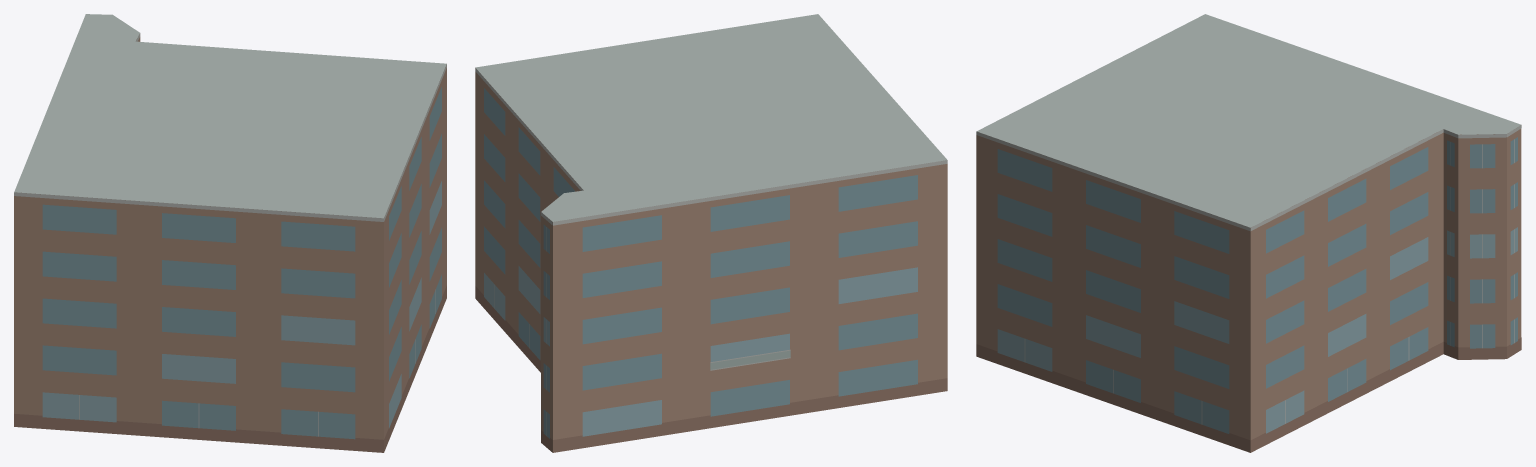
File: survey-upis-33044342.glb
3 views of the same model, side by side, from view 1: azimuth 30°, elevation 25°; view 2: azimuth 150°, elevation 25°; view 3: azimuth 270°, elevation 25° (orthographic). The views are drawn at different scales.
Parts seen in each view (by area): view 1: survey-upis-33044342.tmp; view 2: survey-upis-33044342.tmp; view 3: survey-upis-33044342.tmp.
Part boxes in pixels (x1,y1,x2,y2): survey-upis-33044342.tmp: (14, 14, 446, 452); survey-upis-33044342.tmp: (475, 14, 947, 452); survey-upis-33044342.tmp: (976, 14, 1521, 452).
Size of the model in its own units: 31.05 by 15.25 by 33.46.
